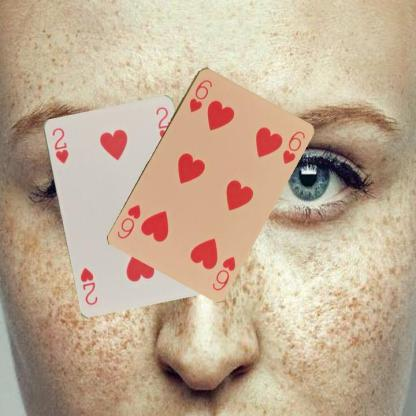2h: (49, 124, 69, 164)
6h: (209, 253, 237, 292), (186, 76, 214, 113)
